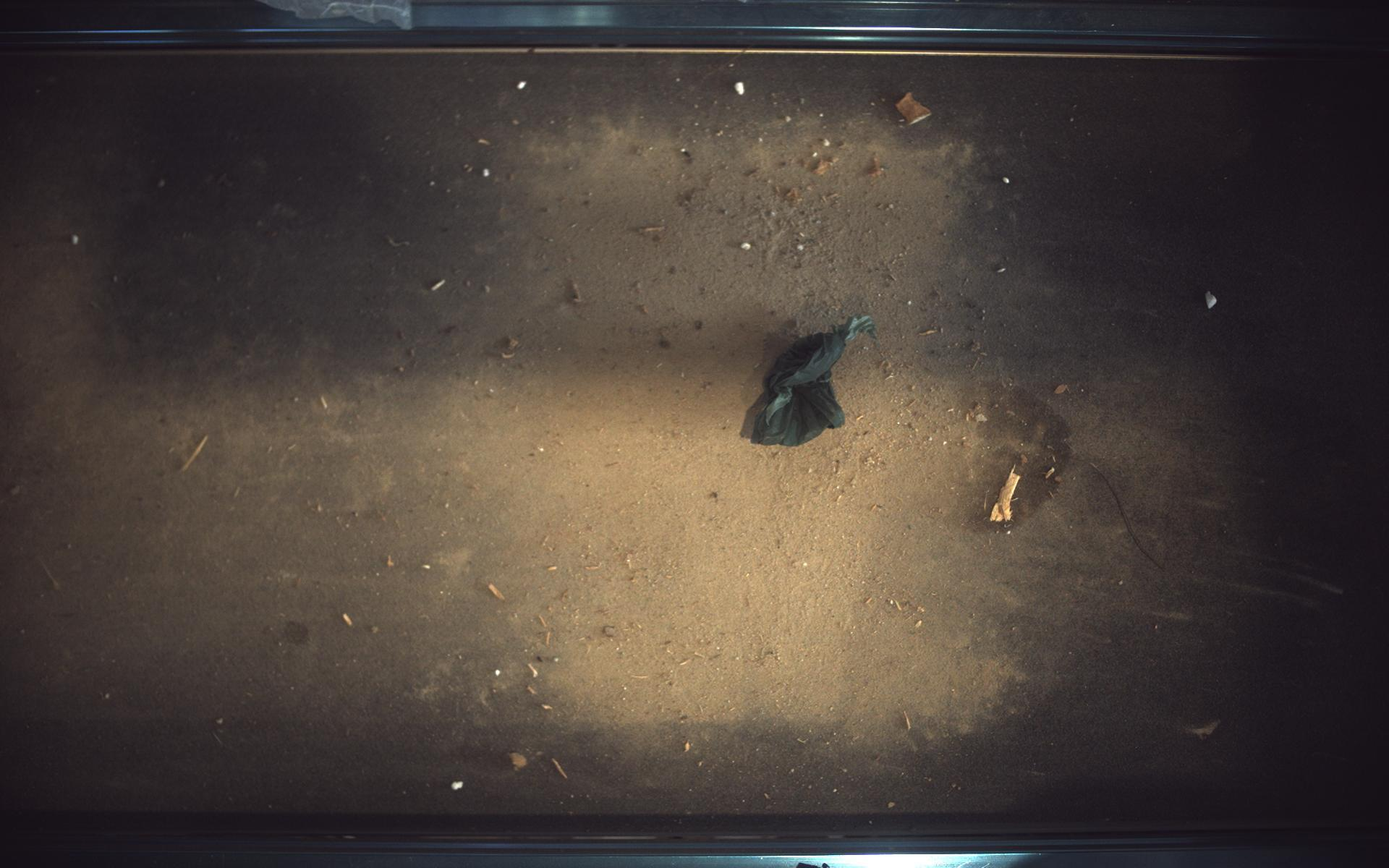general_w: (753, 316, 879, 446)
